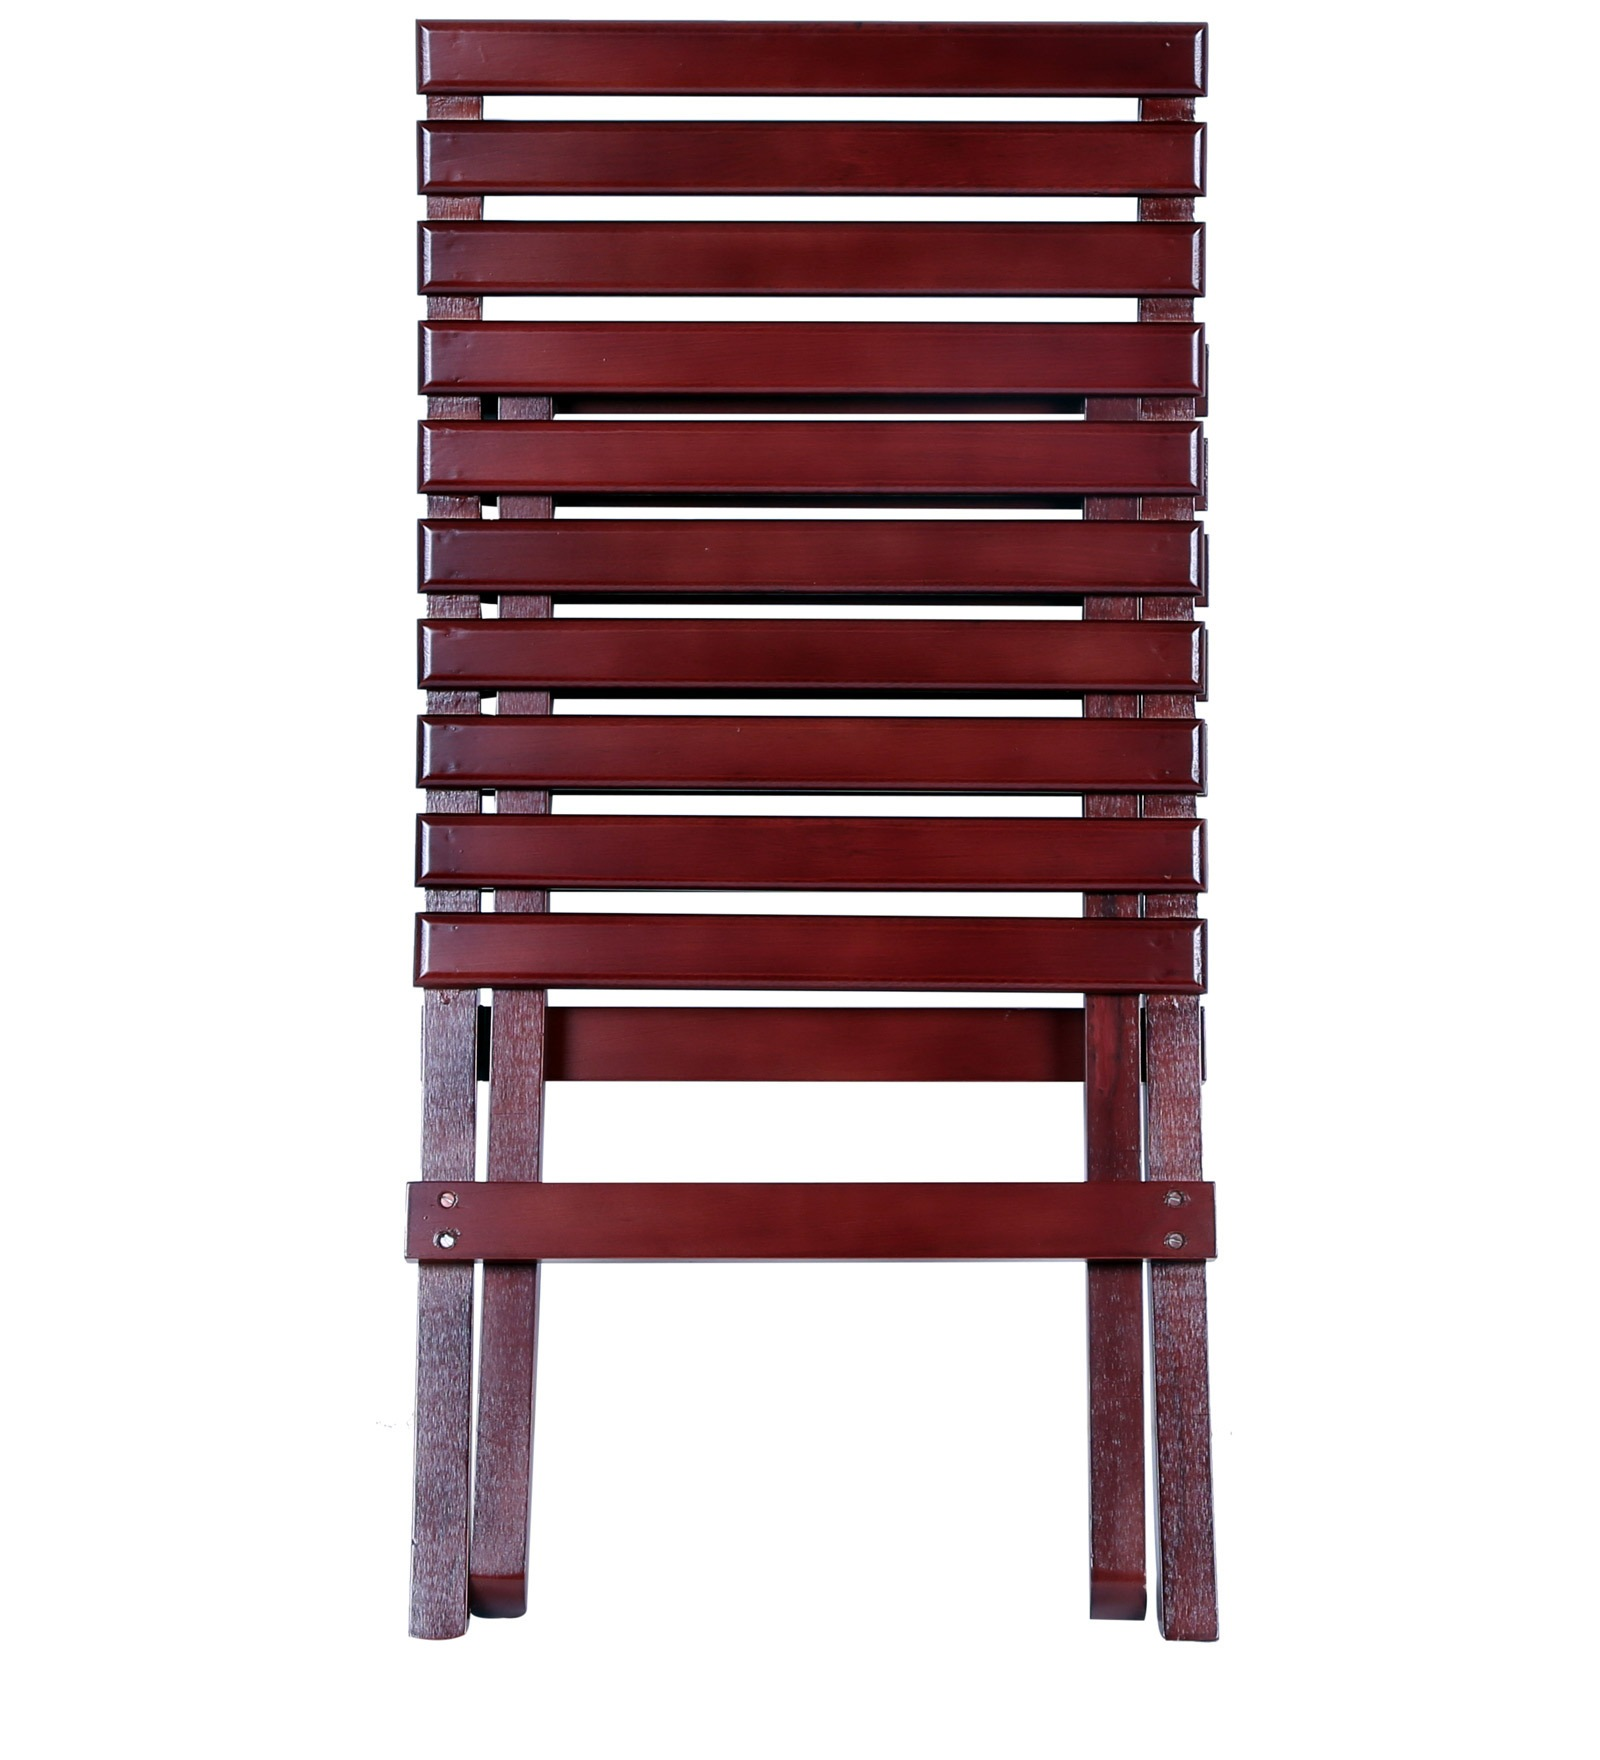Foldable Chair in Brown Colour by ClasiCraft: (374, 9, 1280, 1670)
